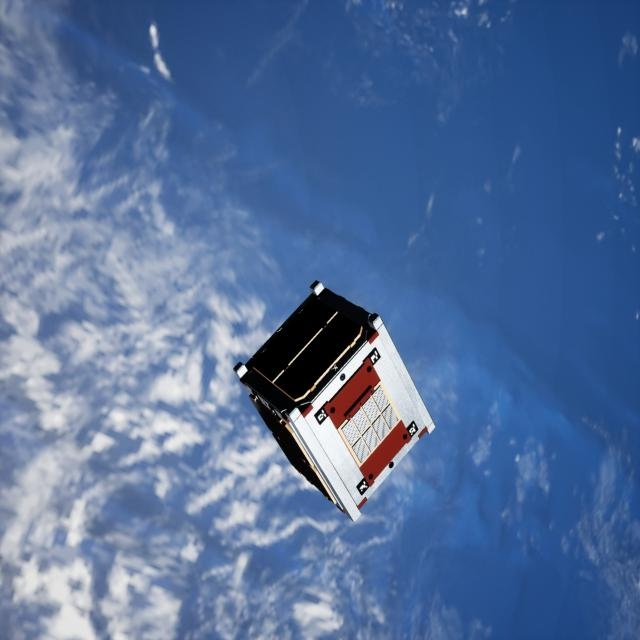medium_debris: (211, 286, 433, 508)
